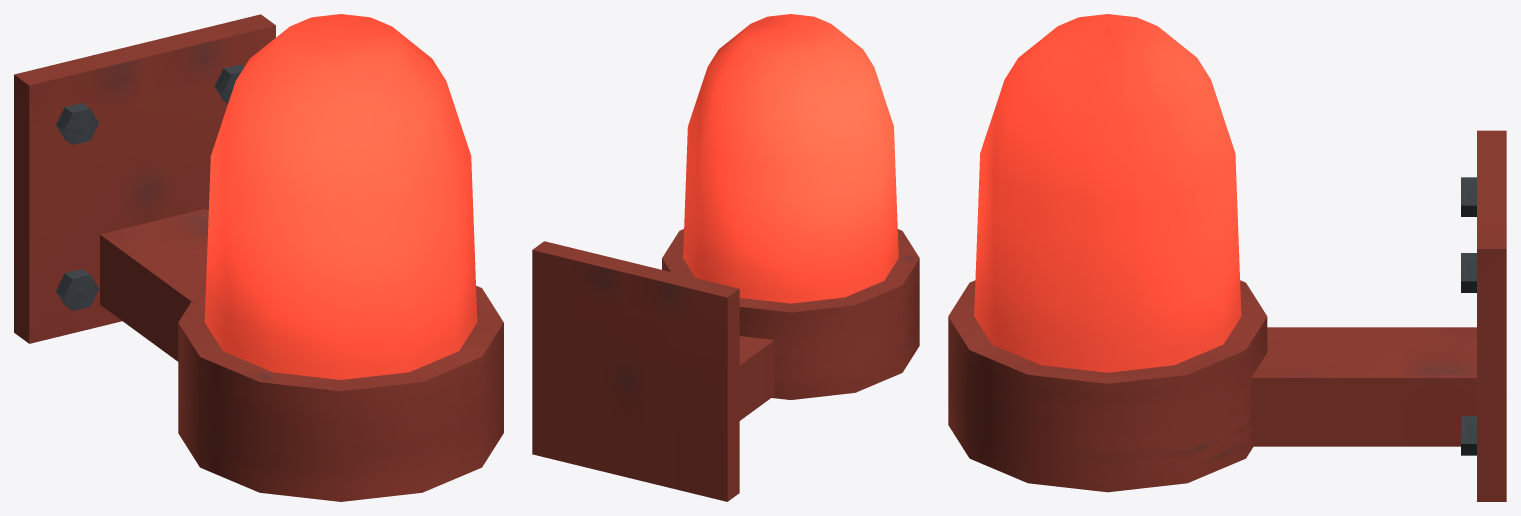
The model's file is alarm_beacon.fbx.
3 views of the same model, side by side, from view 1: azimuth 30°, elevation 25°; view 2: azimuth 150°, elevation 25°; view 3: azimuth 270°, elevation 25° (orthographic). The views are drawn at different scales.
Visible parts, largest first — view 1: alarm_beacon, alarm_beacon_glass; view 2: alarm_beacon, alarm_beacon_glass; view 3: alarm_beacon_glass, alarm_beacon.
Part boxes in pixels (box(x1,y1,x2,y2)): alarm_beacon: box(14, 14, 503, 501); alarm_beacon_glass: box(204, 14, 477, 379); alarm_beacon: box(532, 229, 919, 501); alarm_beacon_glass: box(683, 14, 898, 303); alarm_beacon_glass: box(974, 14, 1241, 372); alarm_beacon: box(948, 130, 1506, 501).
Bounding box in the file's own units: 0.16 × 0.23 × 0.28.
1 material, 1 textured.
